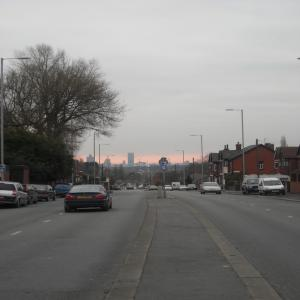Vehicle-registration-plate: (78, 196, 93, 200)
